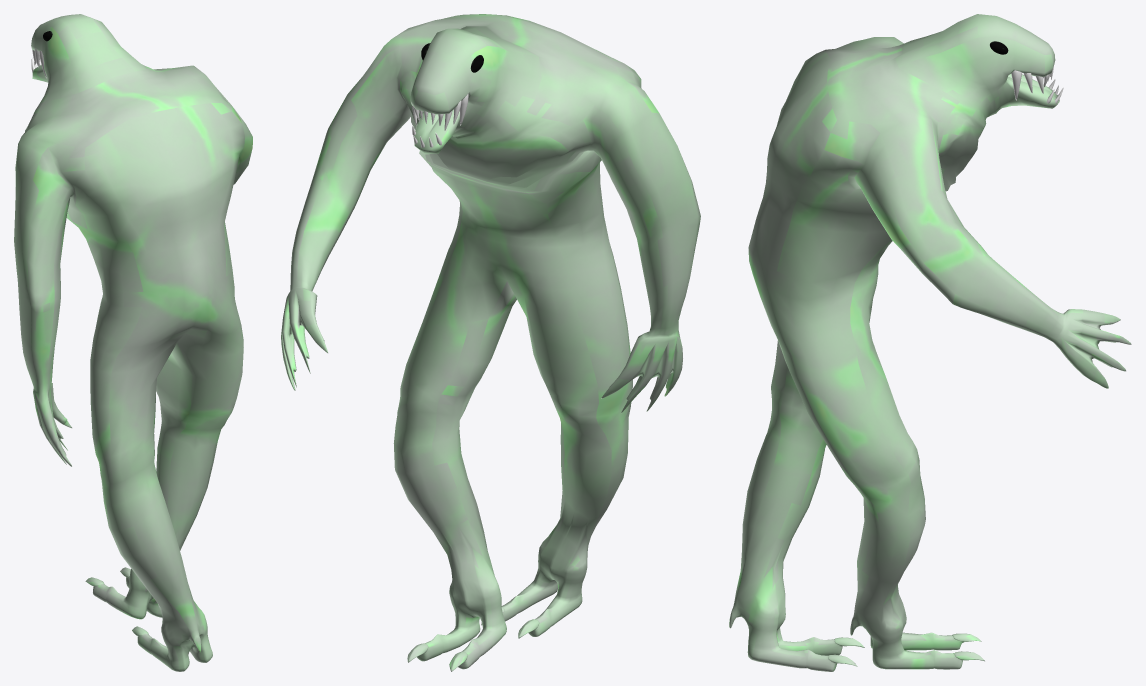
File: Berserkerandar.0024.obj
3 renders of one model, left to right at view 1: azimuth 30°, elevation 25°; view 2: azimuth 150°, elevation 25°; view 3: azimuth 270°, elevation 25°, orthographic. The views are drawn at different scales.
Visible parts, largest first — view 1: polySurface27; view 2: polySurface27; view 3: polySurface27.
Boxes of the visible parts, left/top/right/bottom form: polySurface27: left=14, top=14, right=252, bottom=671; polySurface27: left=281, top=14, right=700, bottom=671; polySurface27: left=729, top=14, right=1131, bottom=671.
Bounding box in the file's own units: 11.43 × 23.13 × 13.26.
Materials: 1 (1 with a texture image).
